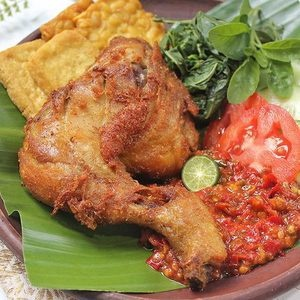ayam_goreng: (11, 31, 230, 287)
